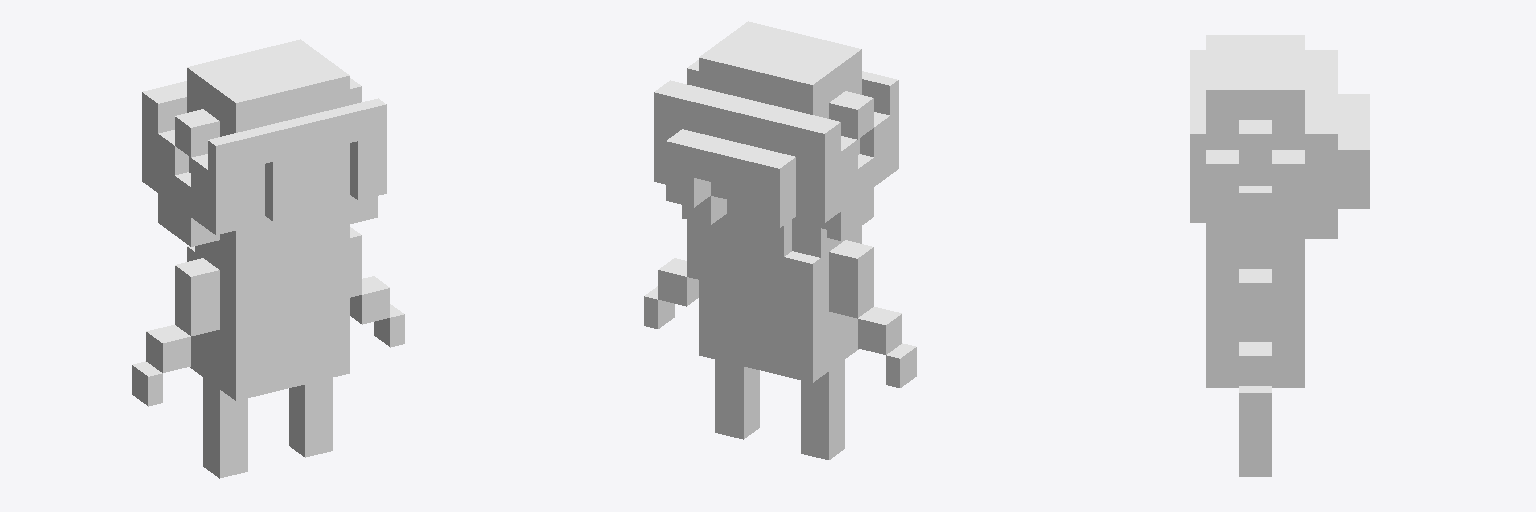
The model's file is HumanPeasentCharacter.obj.
3 renders of one model, left to right at view 1: azimuth 30°, elevation 25°; view 2: azimuth 150°, elevation 25°; view 3: azimuth 270°, elevation 25°, orthographic.
Bounding box in the file's own units: 18 × 26 × 11.